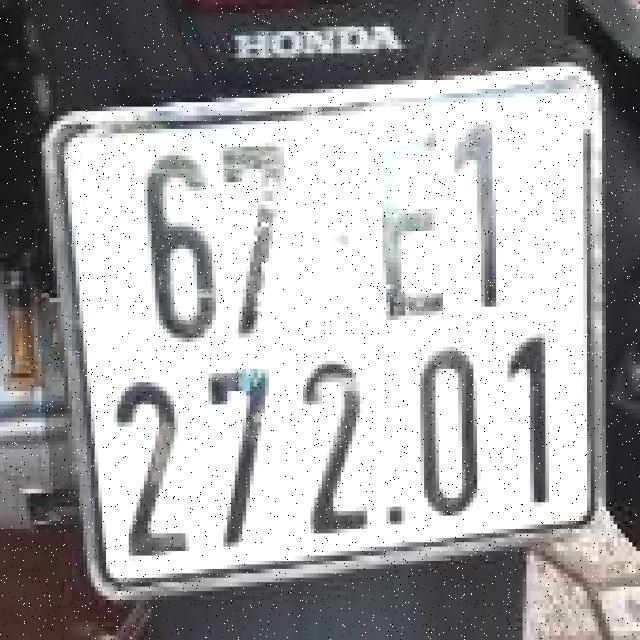0: (407, 342, 487, 520)
1: (454, 116, 512, 324), (502, 329, 562, 515)
2: (108, 373, 191, 560), (296, 358, 371, 536)
6: (136, 146, 220, 346)
7: (214, 140, 297, 349), (202, 362, 274, 549)
E: (373, 120, 449, 333)
